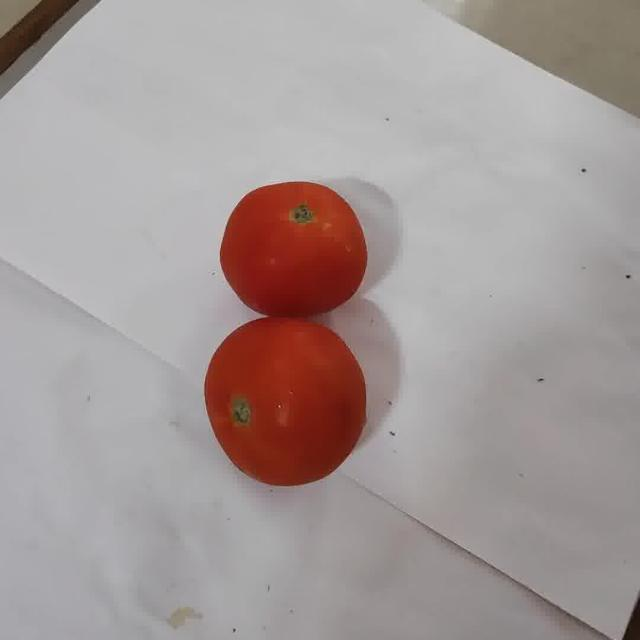Tomato: (204, 318, 366, 485), (220, 182, 367, 317)
